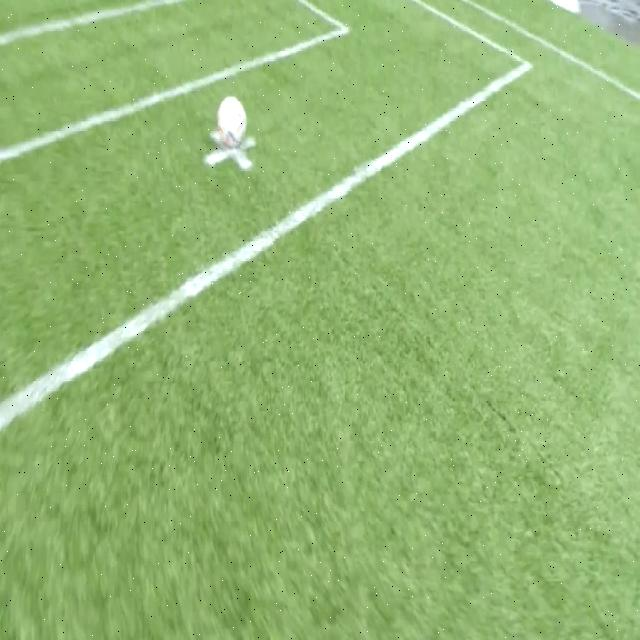ball: (218, 97, 246, 148)
